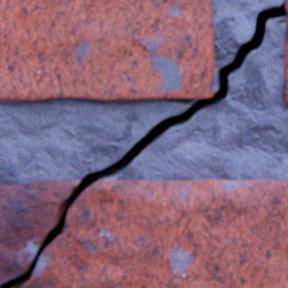brick: (0, 0, 214, 100), (283, 0, 287, 103)
broken_brick: (14, 178, 287, 287), (0, 179, 80, 287)
crack: (2, 0, 286, 287)
